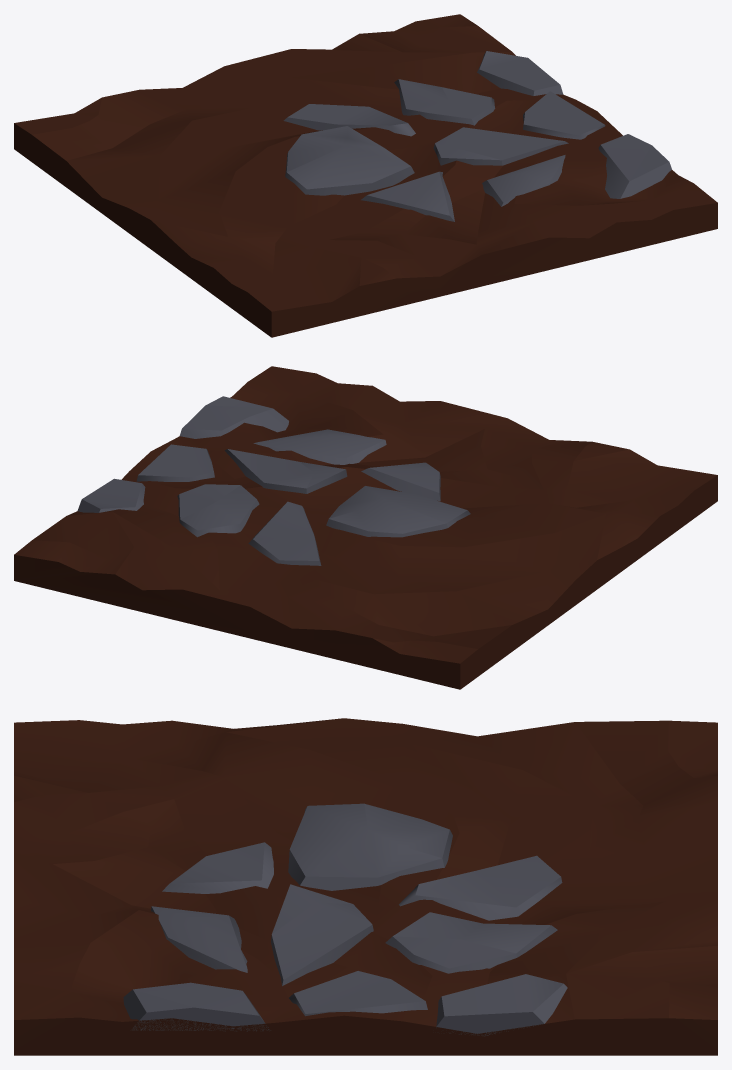
File: Ground_Stone_Path_Ending_L.fbx
The picture shows the model from 3 angles, top to bottom: view 1: azimuth 30°, elevation 25°; view 2: azimuth 150°, elevation 25°; view 3: azimuth 270°, elevation 25°; orthographic projection. The views are drawn at different scales.
Parts seen in each view (by area): view 1: Ground_Stone_Path_Ending_L; view 2: Ground_Stone_Path_Ending_L; view 3: Ground_Stone_Path_Ending_L.
Part boxes in pixels (box(x1,y1,x2,y2)): Ground_Stone_Path_Ending_L: box(14, 14, 717, 337); Ground_Stone_Path_Ending_L: box(14, 366, 717, 689); Ground_Stone_Path_Ending_L: box(14, 718, 717, 1055).
Size of the model in its own units: 147 by 14.98 by 147.
